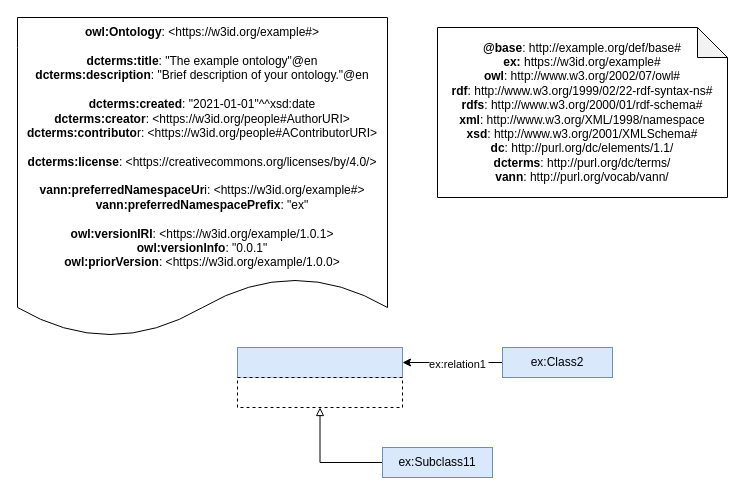
Some shapes in this 745 by 495 pixel diagram are drawn without their labels. Here are the shapes that lost their labels. From the top down, the centre of each, then its label:
At point 319,362: "ex:Class1".
At point 319,392: "ns:attribute1: prefix:datatype".
